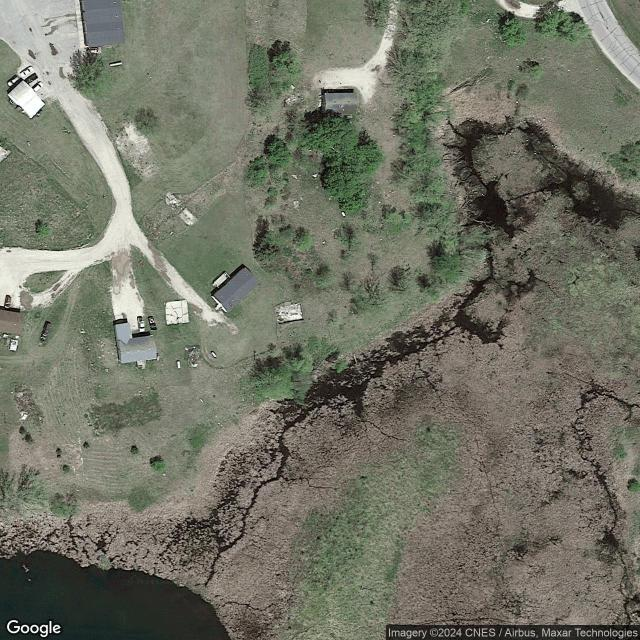Propane: (108, 60, 123, 67), (210, 350, 218, 359), (176, 360, 182, 370)
